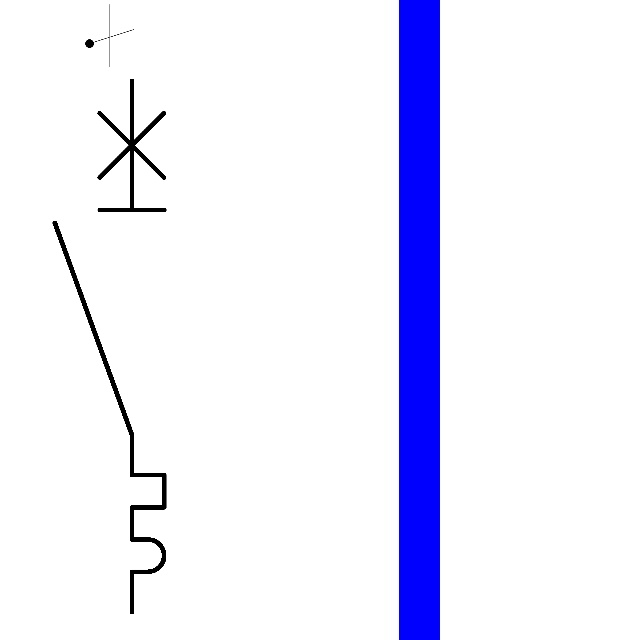interruptor_termomagnetico: (41, 67, 178, 626)
